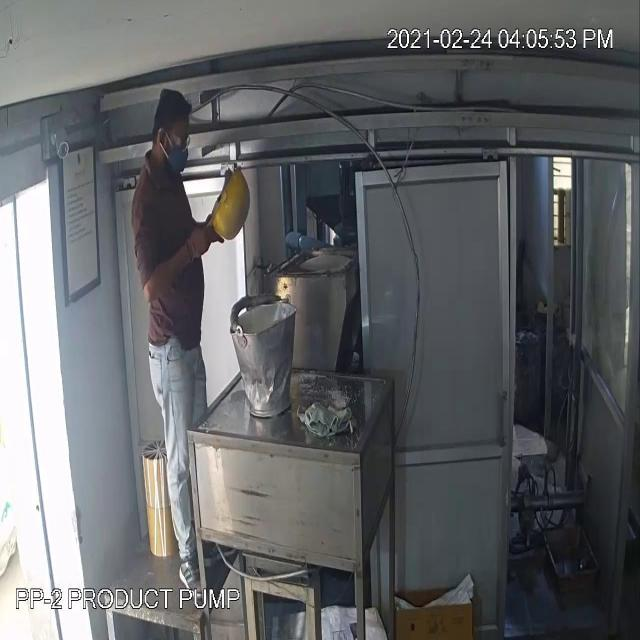no-helmet: (146, 81, 205, 155)
